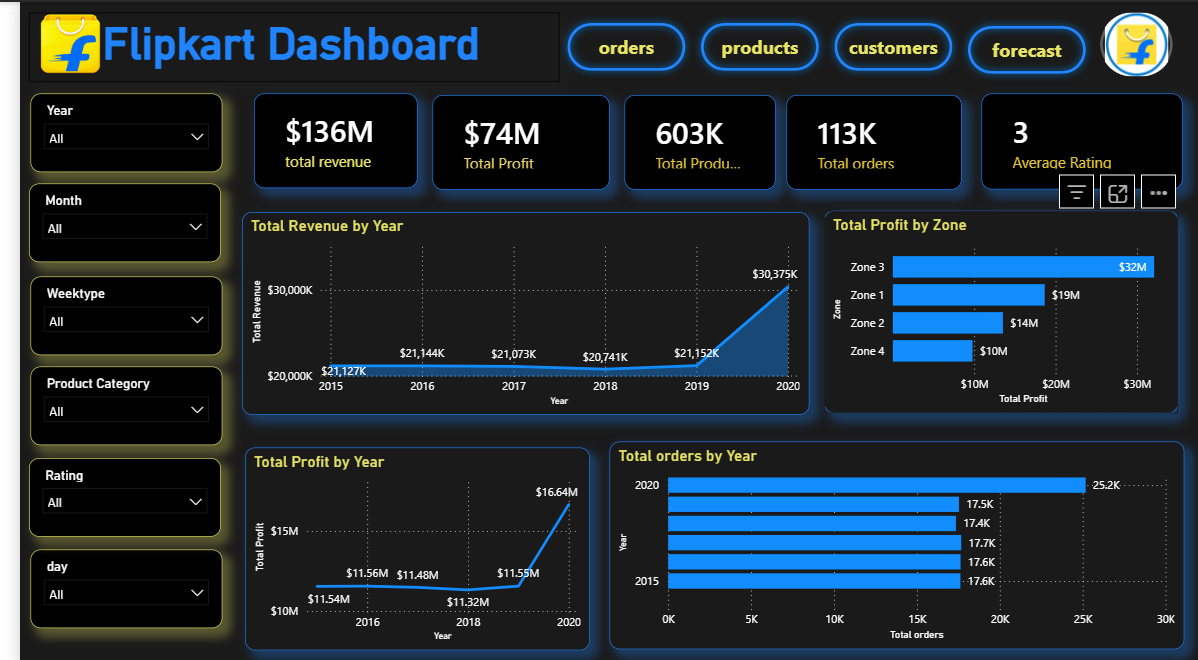

The page's visual inventory and layout, read from the dashboard file:
{"tool":"powerbi","page":{"name":"Dashboard","canvas":[1280,720],"ordinal":1},"visuals":[{"type":"textbox","box":[10,12,575,75],"z":0},{"type":"image","box":[0,11.4,109.3,67.9],"z":1000},{"type":"actionButton","box":[585.6,14.6,144,68],"z":2000},{"type":"actionButton","box":[730.3,14.6,144,68],"z":3000},{"type":"actionButton","box":[875.1,14.6,144,68],"z":4000},{"type":"actionButton","box":[1019.8,17.9,144,68],"z":5000},{"type":"actionButton","box":[1171.1,11.4,79,69],"z":6000},{"type":"image","box":[1171.1,11.4,79,69],"z":7000},{"type":"slicer","fields":{"Values":["dim_calender.Year"]},"box":[11,100,208,85],"z":8000},{"type":"slicer","fields":{"Values":["dim_calender.Month"]},"box":[9.8,196.8,208,85],"z":9000},{"type":"slicer","fields":{"Values":["dim_calender.Weektype"]},"box":[11.4,297.7,208,85],"z":10000},{"type":"slicer","fields":{"Values":["dim_calender.day"]},"box":[11.4,593.7,208,85],"z":11000},{"type":"slicer","fields":{"Values":["dim-category.Product Category"]},"box":[11.4,395.3,208,85],"z":12000},{"type":"slicer","fields":{"Values":["fact-ecommerce.Rating"]},"box":[9.8,494.5,208,85],"z":13000},{"type":"cardVisual","fields":{"Data":["all measures.Total Revenue"]},"box":[253.7,99.2,177.3,102.5],"z":14000},{"type":"cardVisual","fields":{"Data":["all measures.Total Profit"]},"box":[447.3,100.8,191.9,102.5],"z":15000},{"type":"cardVisual","fields":{"Data":["all measures.Total Products sold"]},"box":[655.5,100.8,164.3,102.5],"z":16000},{"type":"cardVisual","fields":{"Data":["all measures.Total orders"]},"box":[831.2,100.8,190.3,102.5],"z":17000},{"type":"cardVisual","fields":{"Data":["all measures.Average Rating"]},"box":[1042.6,99.2,218,104.1],"z":18000},{"type":"areaChart","fields":{"Category":["dim_calender.OrderDate.Variation.Date Hierarchy.Year","dim_calender.OrderDate.Variation.Date Hierarchy.Quarter","dim_calender.OrderDate.Variation.Date Hierarchy.Month","dim_calender.OrderDate.Variation.Date Hierarchy.Day"],"Y":["all measures.Total Revenue"]},"box":[241,228,615,220],"z":19000},{"type":"barChart","fields":{"Category":["dim_customer.Zone"],"Y":["all measures.Total Profit"]},"box":[871.8,226.1,384,220],"z":20000},{"type":"lineChart","fields":{"Category":["dim_calender.OrderDate.Variation.Date Hierarchy.Year","dim_calender.OrderDate.Variation.Date Hierarchy.Quarter","dim_calender.OrderDate.Variation.Date Hierarchy.Month","dim_calender.OrderDate.Variation.Date Hierarchy.Day"],"Y":["all measures.Total Profit"]},"box":[244,483.1,374,220],"z":21000},{"type":"barChart","fields":{"Category":["dim_calender.OrderDate.Variation.Date Hierarchy.Year","dim_calender.OrderDate.Variation.Date Hierarchy.Quarter","dim_calender.OrderDate.Variation.Date Hierarchy.Month","dim_calender.OrderDate.Variation.Date Hierarchy.Day"],"Y":["all measures.Total orders"]},"box":[640,476,623,225],"z":22000}]}

Visuals, with their boxes in screenshot pixels (x1, y1, x2, y2), scaled from the page's 1280x720 canvas onto the 1198x660 screenshot:
textbox: locate(9, 11, 548, 80)
image: locate(0, 10, 102, 73)
actionButton: locate(548, 13, 683, 76)
actionButton: locate(684, 13, 818, 76)
actionButton: locate(819, 13, 954, 76)
actionButton: locate(954, 16, 1089, 79)
actionButton: locate(1096, 10, 1170, 74)
image: locate(1096, 10, 1170, 74)
slicer - dim_calender.Year: locate(10, 92, 205, 170)
slicer - dim_calender.Month: locate(9, 180, 204, 258)
slicer - dim_calender.Weektype: locate(11, 273, 205, 351)
slicer - dim_calender.day: locate(11, 544, 205, 622)
slicer - dim-category.Product Category: locate(11, 362, 205, 440)
slicer - fact-ecommerce.Rating: locate(9, 453, 204, 531)
cardVisual - all measures.Total Revenue: locate(237, 91, 403, 185)
cardVisual - all measures.Total Profit: locate(419, 92, 598, 186)
cardVisual - all measures.Total Products sold: locate(614, 92, 767, 186)
cardVisual - all measures.Total orders: locate(778, 92, 956, 186)
cardVisual - all measures.Average Rating: locate(976, 91, 1180, 186)
areaChart - dim_calender.OrderDate.Variation.Date Hierarchy.Year x dim_calender.OrderDate.Variation.Date Hierarchy.Quarter: locate(226, 209, 801, 411)
barChart - dim_customer.Zone x all measures.Total Profit: locate(816, 207, 1175, 409)
lineChart - dim_calender.OrderDate.Variation.Date Hierarchy.Year x dim_calender.OrderDate.Variation.Date Hierarchy.Quarter: locate(228, 443, 578, 645)
barChart - dim_calender.OrderDate.Variation.Date Hierarchy.Year x dim_calender.OrderDate.Variation.Date Hierarchy.Quarter: locate(599, 436, 1182, 643)
